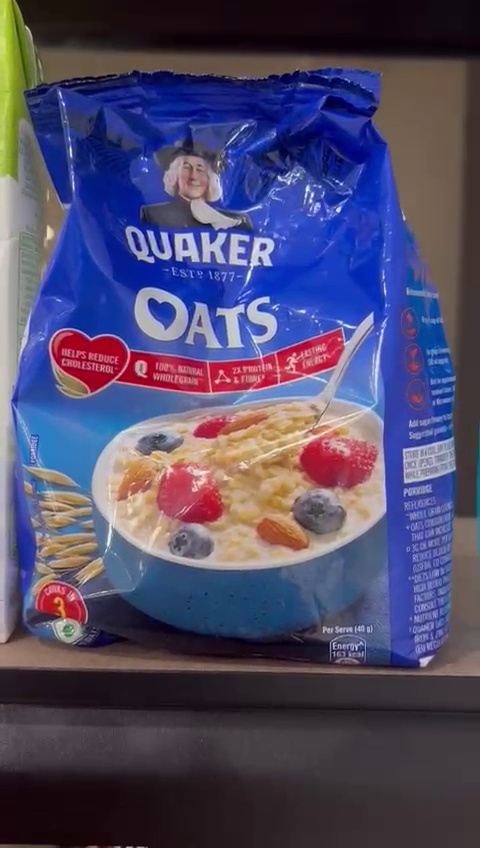Quaker Oats: (9, 68, 451, 661)
